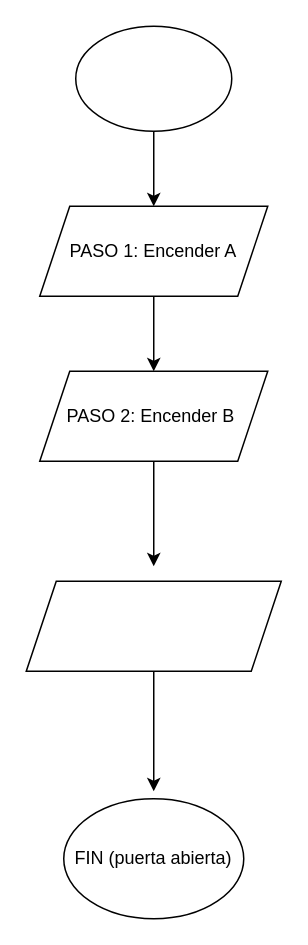
Image size: 308x945. Some labels were removed from this diagram. Each missing label, with the centre of its shape:
INICIO ( PANELES A,B Y C): the point at 153,78
PASO 3: Encender C: the point at 153,625
